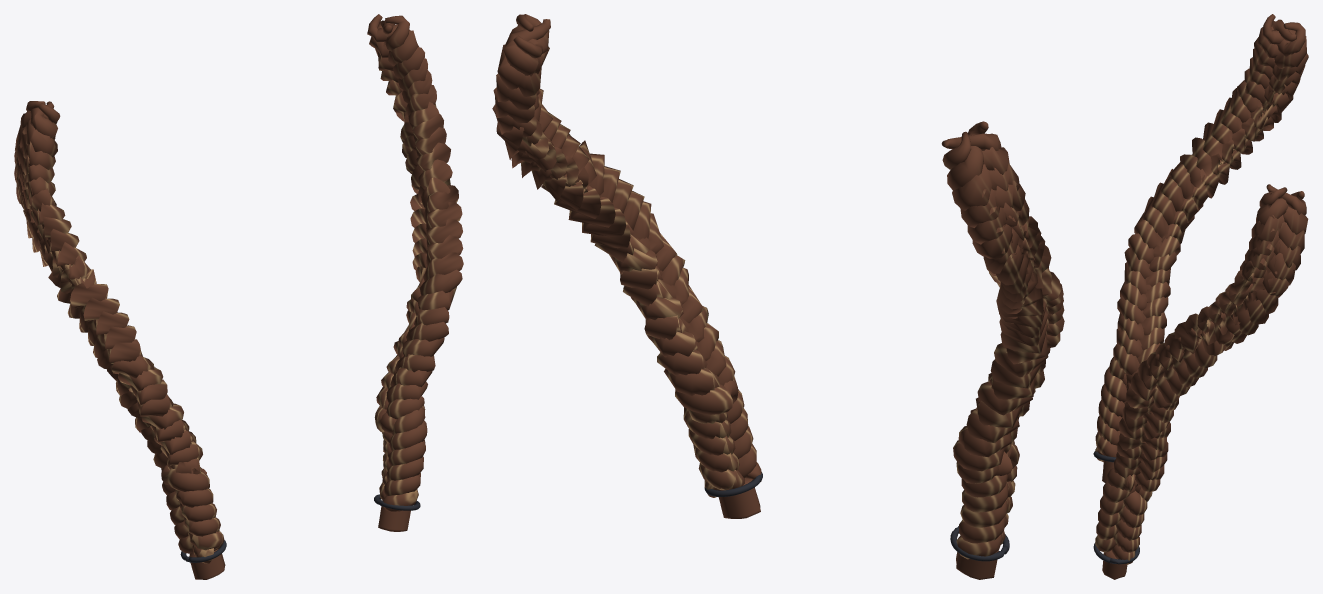
File: Highlights-c7cdcd9a4242252-hair.glb
3 views of the same model, side by side, from view 1: azimuth 30°, elevation 25°; view 2: azimuth 150°, elevation 25°; view 3: azimuth 270°, elevation 25° (orthographic). The views are drawn at different scales.
Parts seen in each view (by area): view 1: 226 hairLengths / Hair / chestnut226, 226 hairLengths / Hair / ties226; view 2: 226 hairLengths / Hair / chestnut226, 226 hairLengths / Hair / ties226; view 3: 226 hairLengths / Hair / chestnut226, 226 hairLengths / Hair / ties226.
Part boxes in pixels (left/top/right/bottom): 226 hairLengths / Hair / chestnut226: left=14, top=14, right=463, bottom=579; 226 hairLengths / Hair / ties226: left=180, top=494, right=420, bottom=562; 226 hairLengths / Hair / chestnut226: left=492, top=14, right=1064, bottom=579; 226 hairLengths / Hair / ties226: left=704, top=472, right=1009, bottom=561; 226 hairLengths / Hair / chestnut226: left=1095, top=14, right=1308, bottom=579; 226 hairLengths / Hair / ties226: left=1093, top=451, right=1139, bottom=564.
Bounding box in the file's own units: 1.03 × 1.06 × 0.4794.
2 materials, 1 textured.
